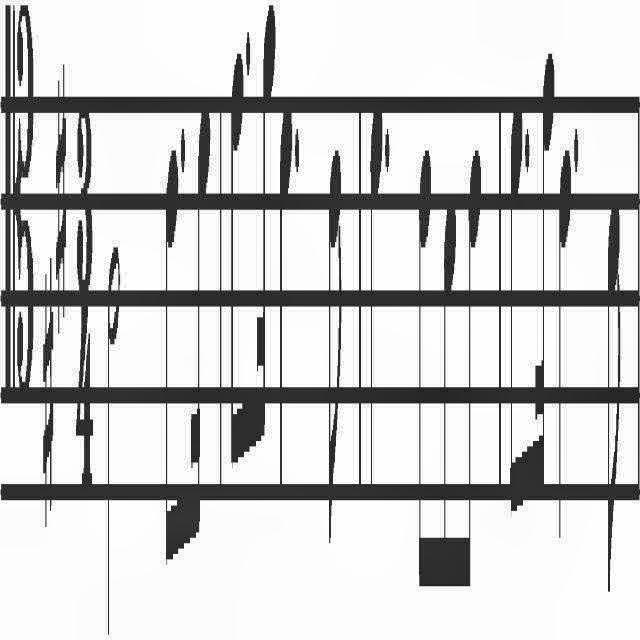Diez: (54, 66, 68, 338), (42, 256, 54, 544)
Eighth-note: (460, 140, 482, 600), (228, 46, 244, 490), (439, 195, 456, 610), (326, 144, 342, 570), (606, 180, 622, 604), (418, 134, 432, 592), (509, 86, 523, 532), (164, 143, 178, 585)
Half-note: (106, 245, 122, 640)
Quarter-note: (277, 89, 293, 499), (368, 87, 384, 497), (557, 148, 571, 544)
Sixteenth-note: (536, 42, 556, 566), (190, 90, 210, 562), (256, 0, 275, 488)
